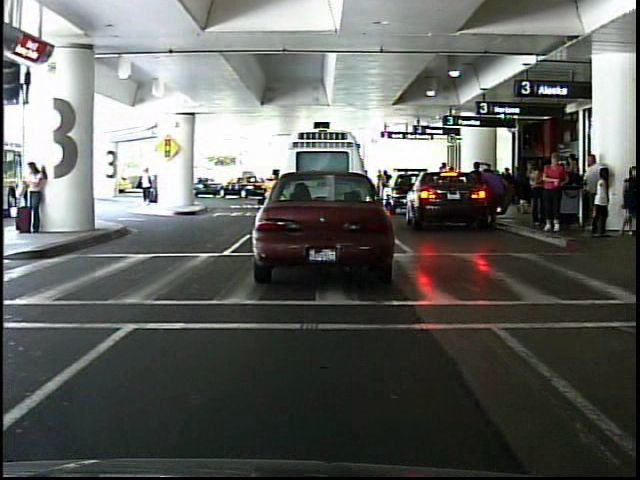person: (541, 150, 569, 237), (23, 160, 49, 235), (134, 162, 162, 208)
